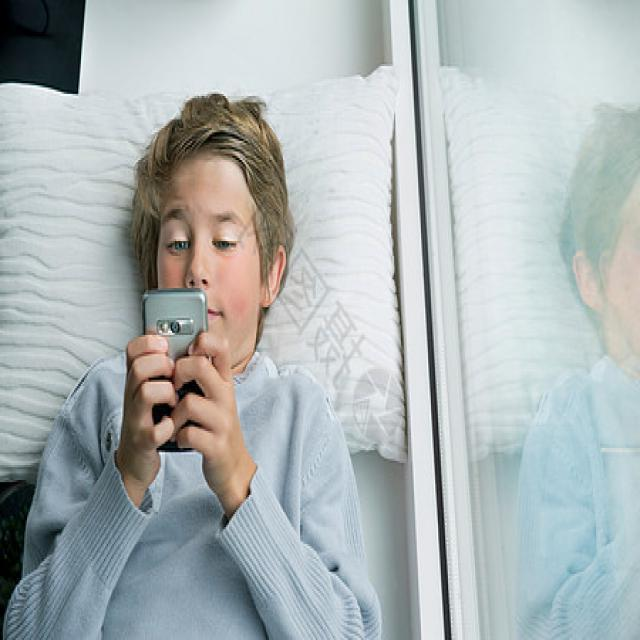phone: (135, 289, 204, 451)
